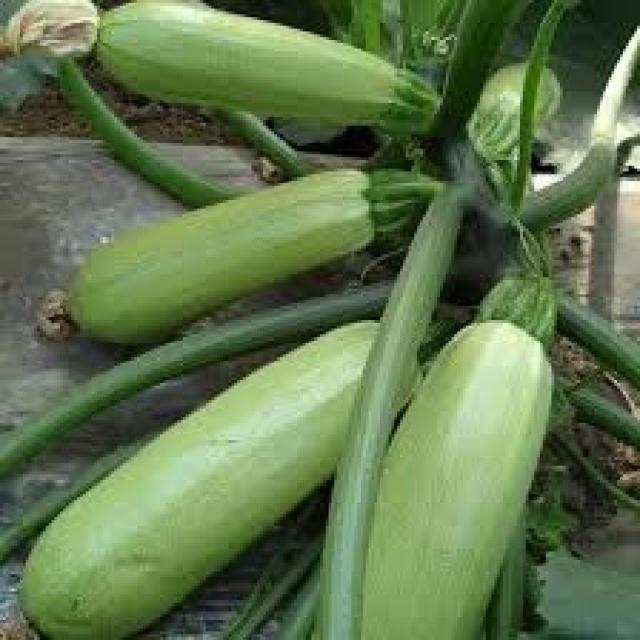Zucchini: (378, 280, 554, 634)
